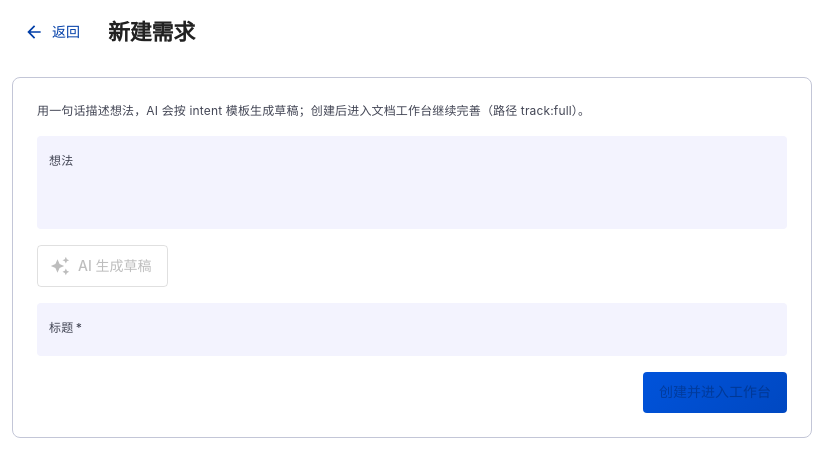
Test: NewChangePage › AI 生成草稿 needs at least 5 characters of idea
Check: the button "AI 生成草稿" is disabled, box [37, 244, 168, 287]
In the text box labelled "想法": (412,190) [49, 160, 775, 220], type "1234"
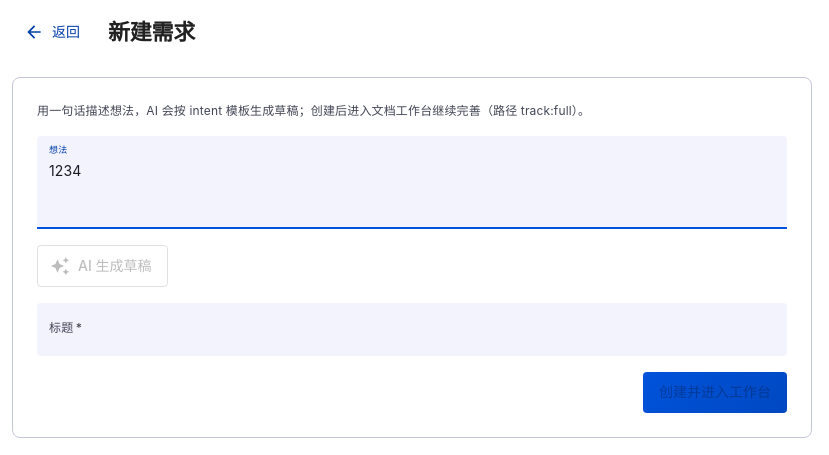
Check: the button "AI 生成草稿" is disabled, box [37, 244, 168, 287]
In the text box labelled "想法": (412,190) [49, 160, 775, 220], type "5"
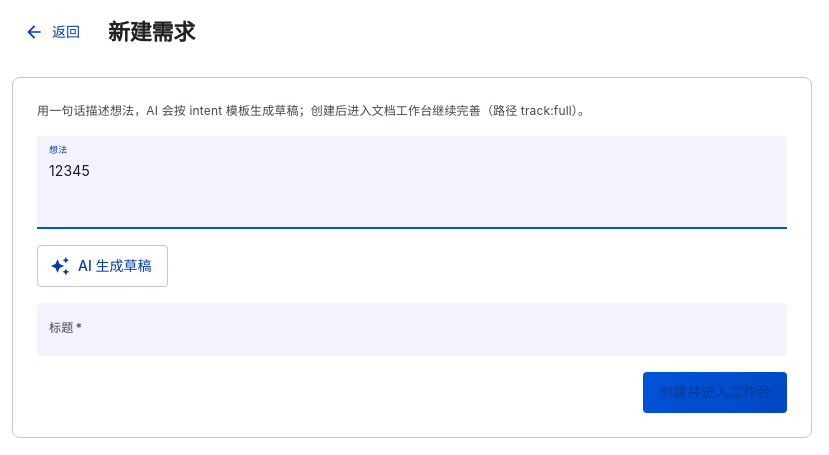
Check: the button "AI 生成草稿" is enabled, box [37, 244, 168, 287]
